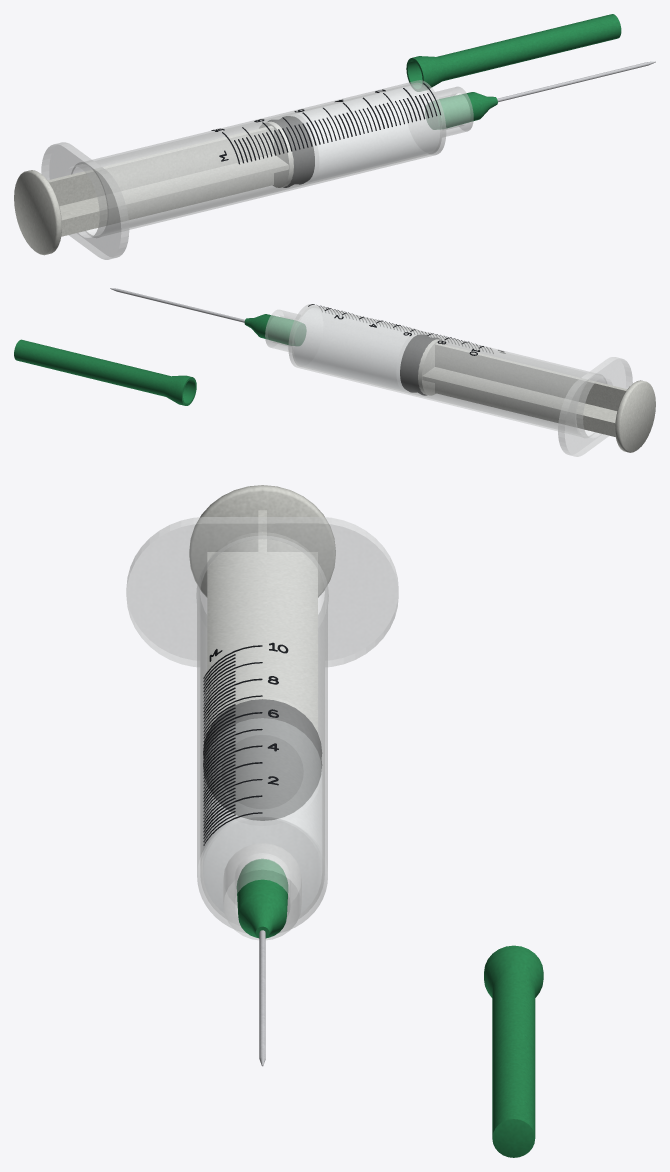
File: syringe.glb
The picture shows the model from 3 angles, top to bottom: view 1: azimuth 30°, elevation 25°; view 2: azimuth 150°, elevation 25°; view 3: azimuth 270°, elevation 25°; orthographic projection. The views are drawn at different scales.
Parts seen in each view (by area): view 1: Syringe 10 ml barrel, Syringe 10 ml plunger rod, Syringe 10 ml solution, Needle cap, Syringe 10 ml scale, Syringe 10 ml needle hub, Syringe 10 ml plunger seal, Syringe 10 ml needle; view 2: Syringe 10 ml barrel, Syringe 10 ml plunger rod, Syringe 10 ml solution, Needle cap, Syringe 10 ml needle hub, Syringe 10 ml plunger seal, Syringe 10 ml scale, Syringe 10 ml needle; view 3: Syringe 10 ml barrel, Syringe 10 ml plunger rod, Syringe 10 ml plunger seal, Syringe 10 ml solution, Needle cap, Syringe 10 ml scale, Syringe 10 ml needle hub.
Boxes of the visible parts, left/top/right/bottom form: Syringe 10 ml barrel: left=41, top=80, right=473, bottom=259; Syringe 10 ml plunger rod: left=14, top=121, right=293, bottom=255; Syringe 10 ml solution: left=291, top=85, right=439, bottom=181; Needle cap: left=406, top=14, right=621, bottom=91; Syringe 10 ml scale: left=211, top=83, right=440, bottom=164; Syringe 10 ml needle hub: left=425, top=92, right=497, bottom=129; Syringe 10 ml plunger seal: left=267, top=116, right=314, bottom=187; Syringe 10 ml needle: left=497, top=61, right=655, bottom=102; Syringe 10 ml barrel: left=265, top=304, right=632, bottom=456; Syringe 10 ml plunger rod: left=418, top=339, right=655, bottom=452; Syringe 10 ml solution: left=294, top=308, right=418, bottom=390; Needle cap: left=14, top=339, right=196, bottom=405; Syringe 10 ml needle hub: left=244, top=314, right=306, bottom=345; Syringe 10 ml plunger seal: left=400, top=334, right=440, bottom=395; Syringe 10 ml scale: left=308, top=304, right=505, bottom=355; Syringe 10 ml needle: left=110, top=288, right=244, bottom=322; Syringe 10 ml barrel: left=126, top=517, right=398, bottom=940; Syringe 10 ml plunger rod: left=189, top=485, right=335, bottom=732; Syringe 10 ml plunger seal: left=203, top=699, right=322, bottom=820; Syringe 10 ml solution: left=203, top=718, right=321, bottom=912; Needle cap: left=484, top=945, right=543, bottom=1157; Syringe 10 ml scale: left=203, top=642, right=288, bottom=845; Syringe 10 ml needle hub: left=236, top=859, right=288, bottom=938.
Size of the model in its own units: 0.1642 by 0.0203 by 0.0532.
7 materials, 7 textured.
